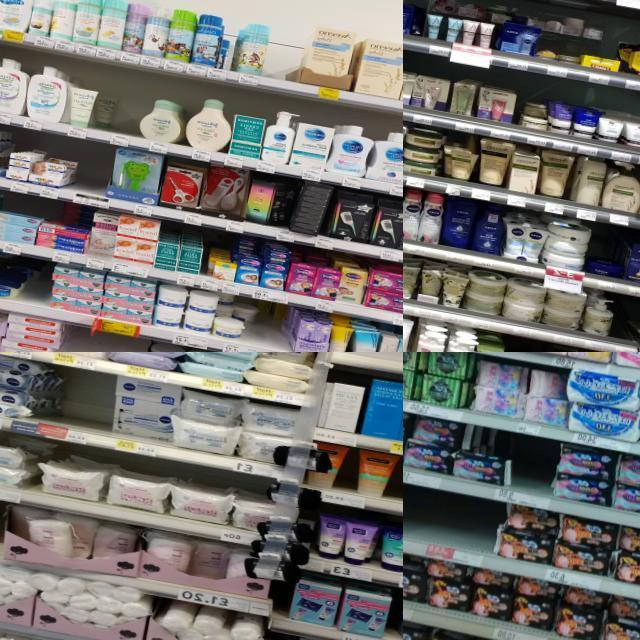empty: (403, 486, 498, 565), (50, 368, 114, 446), (508, 434, 558, 508), (70, 143, 113, 208), (258, 26, 295, 91), (108, 83, 144, 148), (606, 294, 640, 352), (65, 329, 148, 352), (22, 276, 52, 320), (251, 315, 280, 352)
